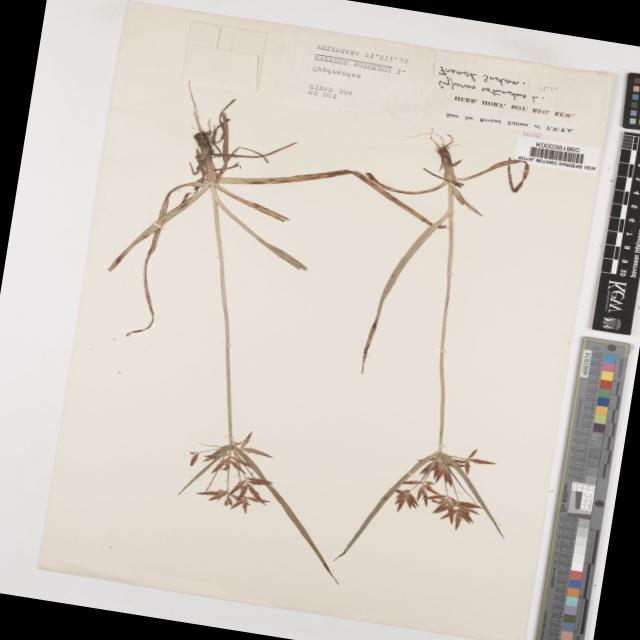cyperus: (380, 432, 510, 542), (175, 422, 282, 523)
